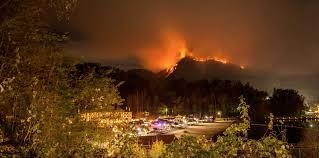fire: (149, 40, 247, 68)
